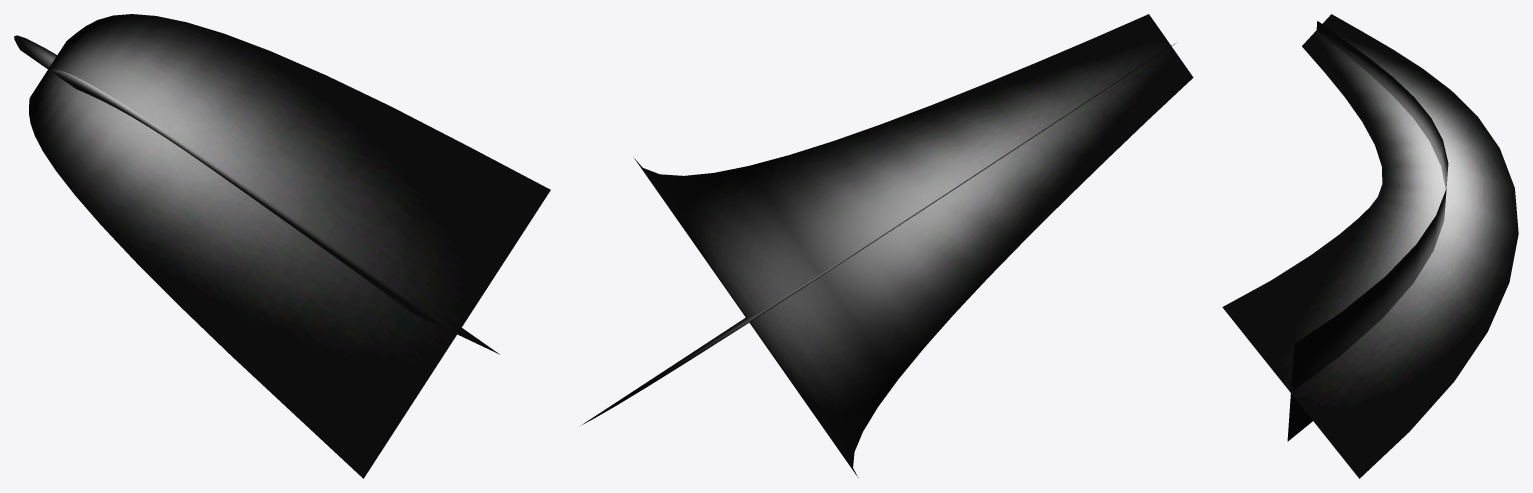
Rendered from vfx_kurp_0123.dae.
The picture shows the model from 3 angles, left to right: view 1: azimuth 30°, elevation 25°; view 2: azimuth 150°, elevation 25°; view 3: azimuth 270°, elevation 25°; orthographic projection. The views are drawn at different scales.
Parts seen in each view (by area): view 1: vfx_kurp_0123; view 2: vfx_kurp_0123; view 3: vfx_kurp_0123.
Boxes of the visible parts, x1=… form: vfx_kurp_0123: x1=14, y1=14, x2=550, y2=478; vfx_kurp_0123: x1=580, y1=14, x2=1193, y2=477; vfx_kurp_0123: x1=1222, y1=14, x2=1518, y2=478.
Size of the model in its own units: 6.14 by 4.61 by 5.68.
Materials: 1 (1 with a texture image).
